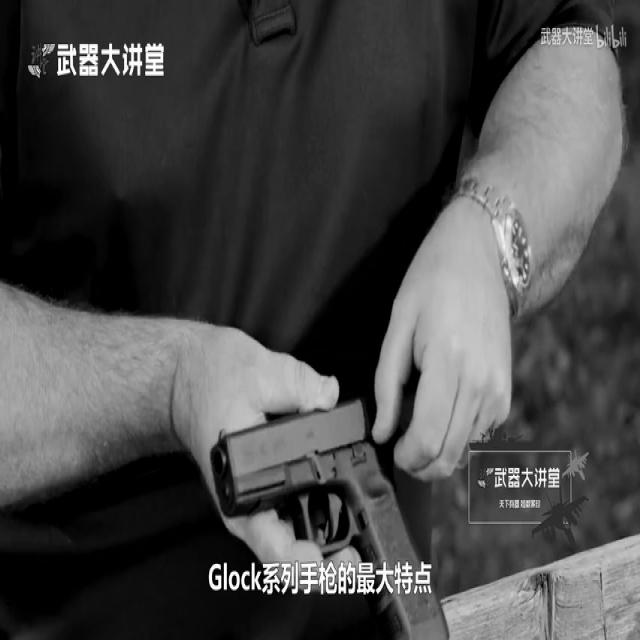Hand-Gun: (205, 330, 530, 640)
